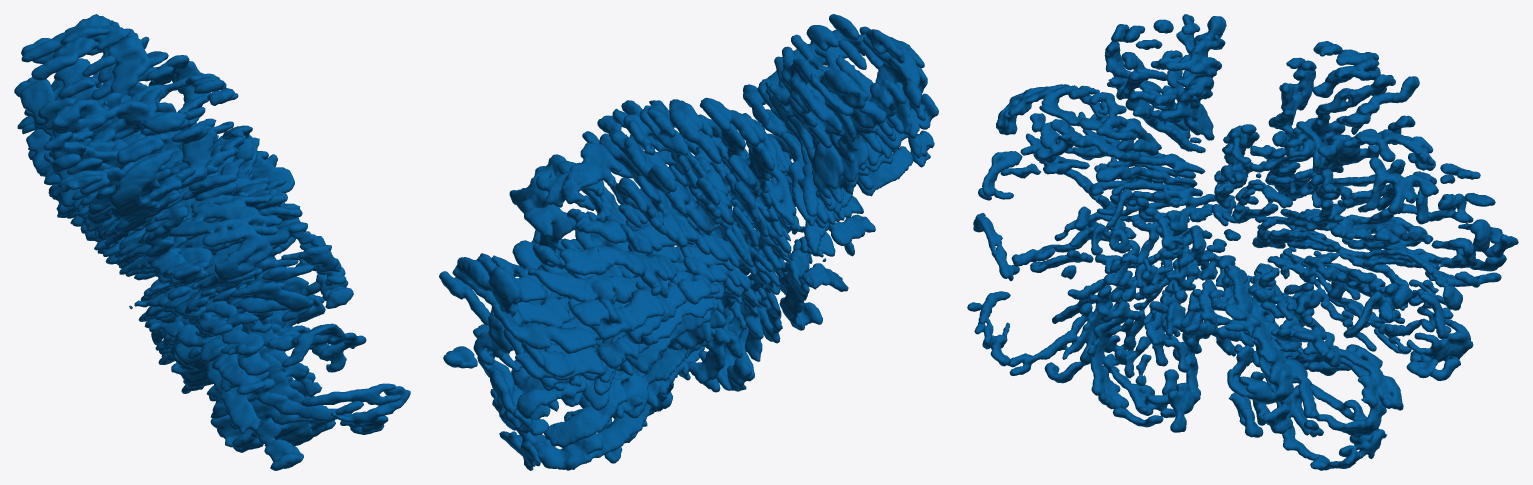
Rendered from 24HR_30cis_timelapse_z.glb.
The picture shows the model from 3 angles, left to right: view 1: azimuth 30°, elevation 25°; view 2: azimuth 150°, elevation 25°; view 3: azimuth 270°, elevation 25°; orthographic projection. The views are drawn at different scales.
Parts seen in each view (by area): view 1: 24HR_30cis_timelapse_z; view 2: 24HR_30cis_timelapse_z; view 3: 24HR_30cis_timelapse_z.
Part boxes in pixels (x1,y1,x2,y2): 24HR_30cis_timelapse_z: (14,14,410,470); 24HR_30cis_timelapse_z: (439,14,938,470); 24HR_30cis_timelapse_z: (967,14,1518,470).
Size of the model in its own units: 21.23 by 23.26 by 31.92.
